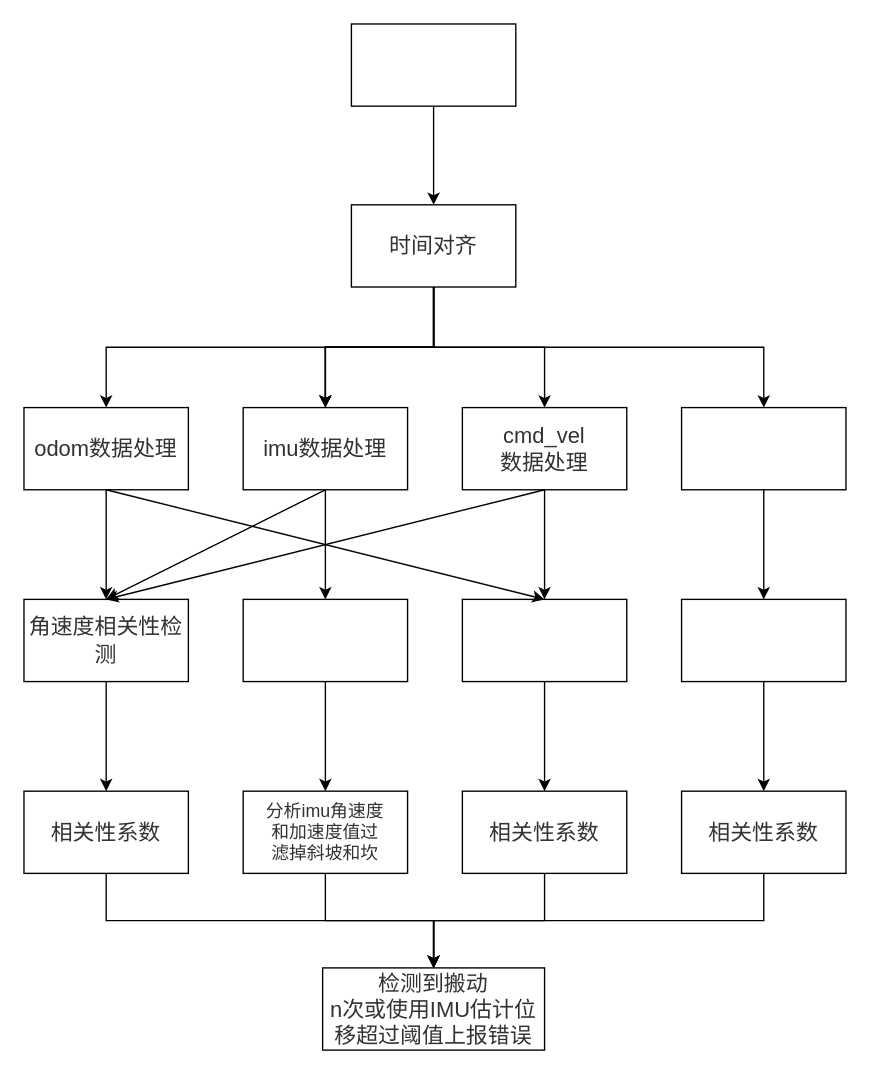
This 870x1074 diagram has some shape labels left out. The centre of each missing label's shape, as x and y in pixels:
imu数据的检测: (325,640)
scan数据处理: (763,448)
传感器数据 及话题接受: (433,64)
激光前后帧 相关性检测: (763,640)
线速度 相关性检测: (544,640)
